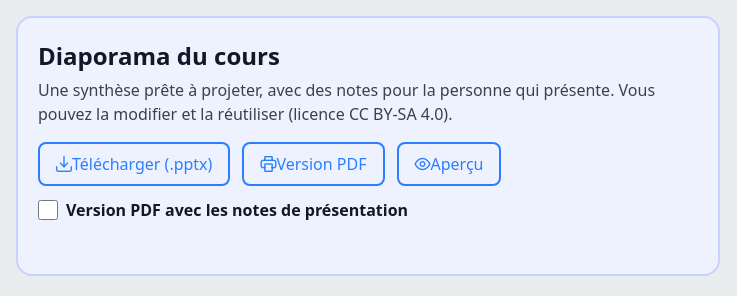
Test case: DiaporamaActions › télécharge le .pptx avec le nom du site
Click the button with test id "diaporama-pptx".
click(134, 164)  # box [38,142,230,186]
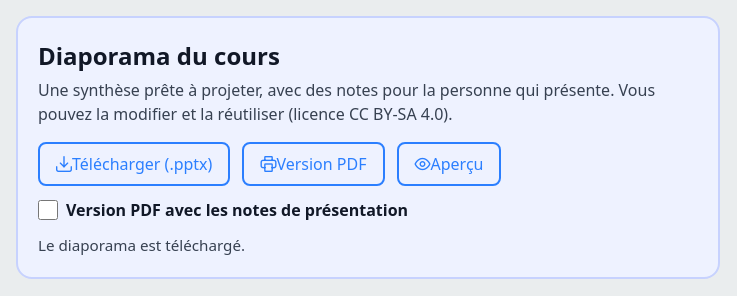
Result: the message "Le diaporama est téléchargé." is shown at [38,235,245,255]
